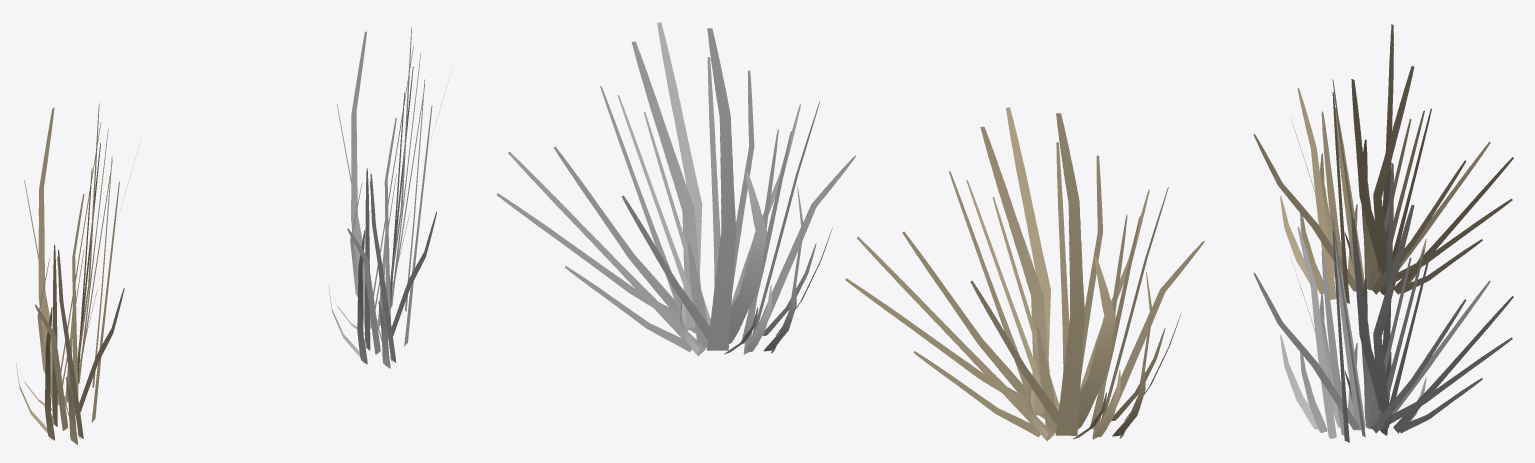
File: Outside_Grass_example4.fbx
The picture shows the model from 3 angles, left to right: view 1: azimuth 30°, elevation 25°; view 2: azimuth 150°, elevation 25°; view 3: azimuth 270°, elevation 25°; orthographic projection. The views are drawn at different scales.
Parts seen in each view (by area): view 1: 523.004, 523.008; view 2: 523.004, 523.008; view 3: 523.008, 523.004.
Boxes of the visible parts, left/top/right/bottom form: 523.004: left=16, top=103, right=137, bottom=444; 523.008: left=328, top=27, right=448, bottom=368; 523.004: left=845, top=107, right=1204, bottom=440; 523.008: left=496, top=22, right=855, bottom=355; 523.008: left=1253, top=163, right=1513, bottom=442; 523.004: left=1253, top=24, right=1513, bottom=303.
Size of the model in its own units: 266 by 133 by 153.
